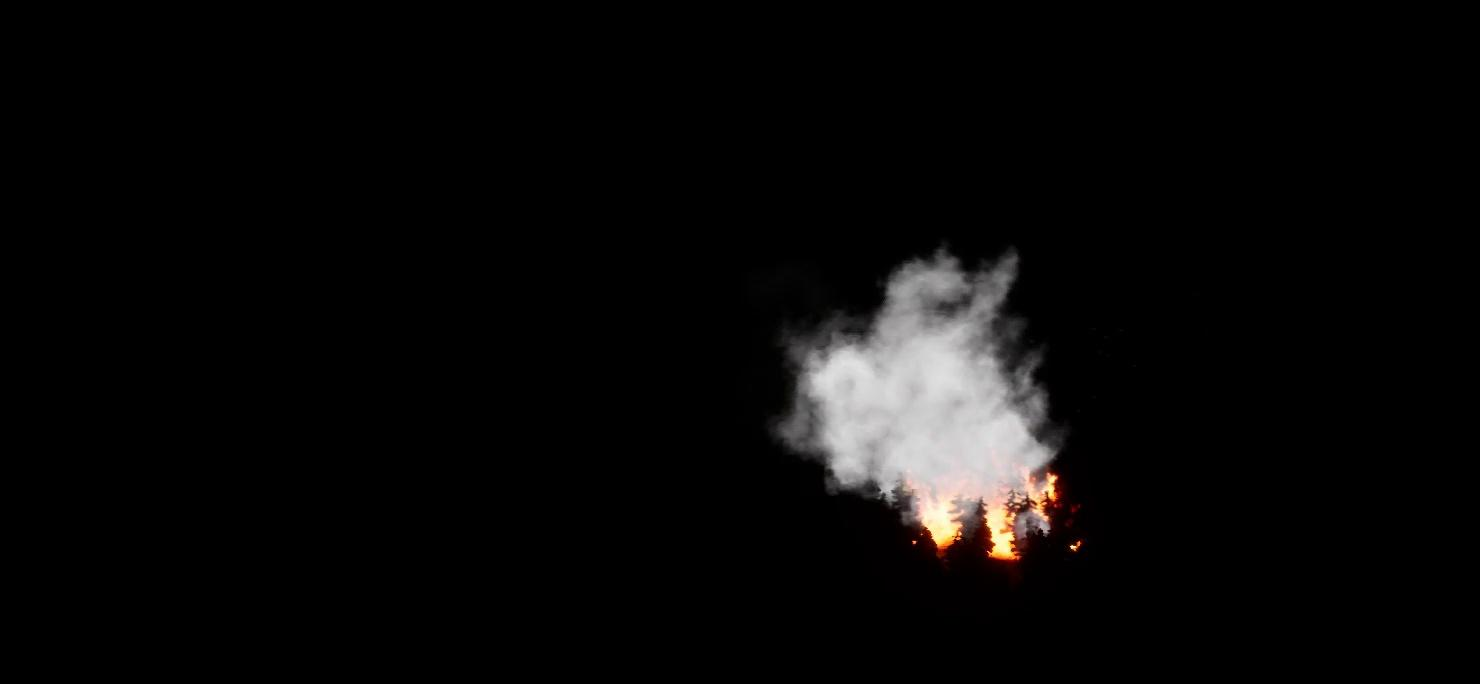fire: (898, 468, 1072, 563)
smoke: (767, 247, 1049, 506)
